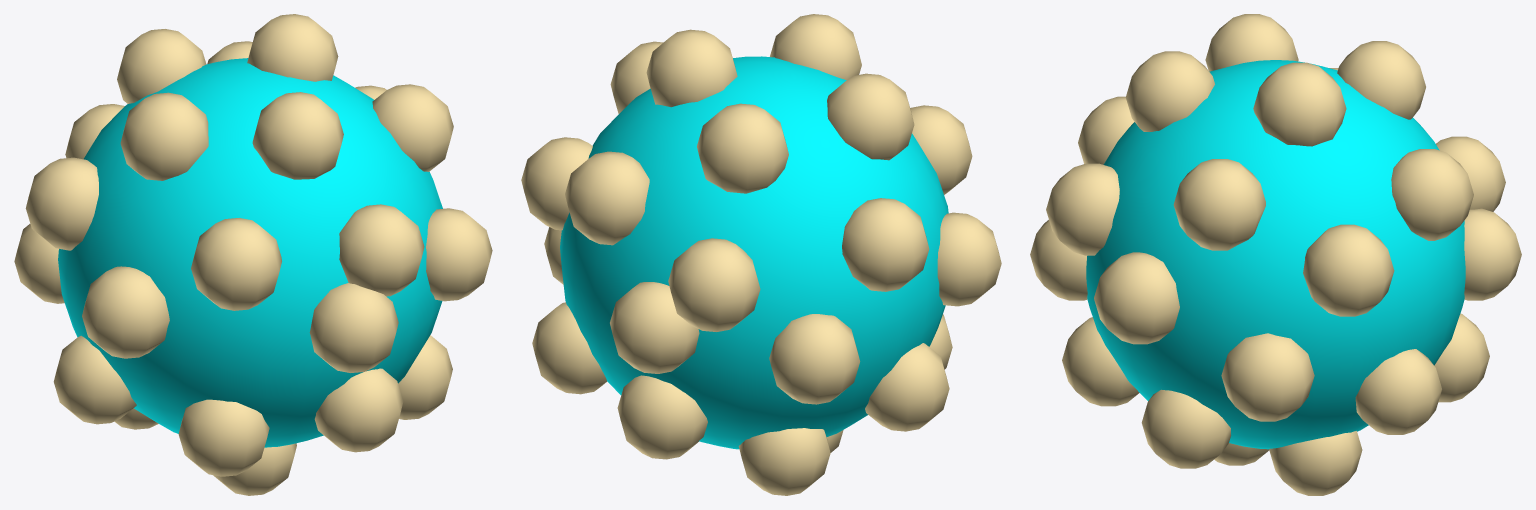
The model's file is pollen_grain.glb.
The picture shows the model from 3 angles, left to right: view 1: azimuth 30°, elevation 25°; view 2: azimuth 150°, elevation 25°; view 3: azimuth 270°, elevation 25°; orthographic projection.
Visible parts, largest first — view 1: Sphere; view 2: Sphere; view 3: Sphere.
Boxes of the visible parts, box(x1,y1,x2,y2) form: Sphere: box(14, 14, 492, 495); Sphere: box(521, 14, 1001, 495); Sphere: box(1030, 14, 1521, 495).
Size of the model in its own units: 1.11 by 1.12 by 1.16.
